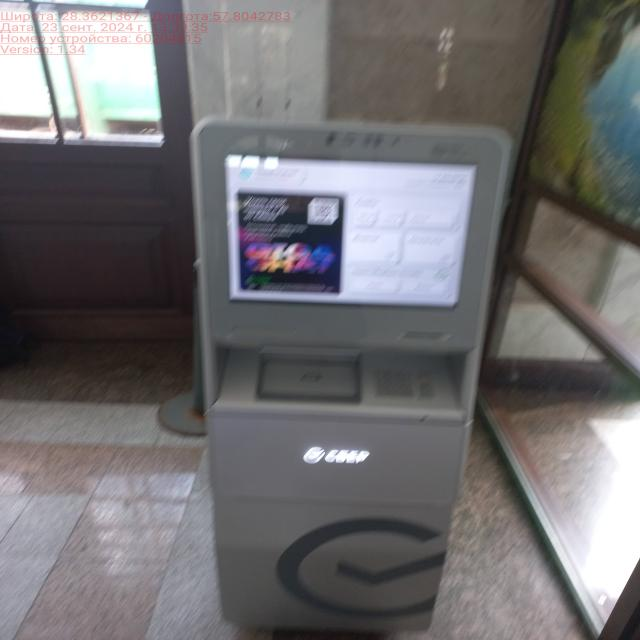bank: (192, 118, 511, 630)
